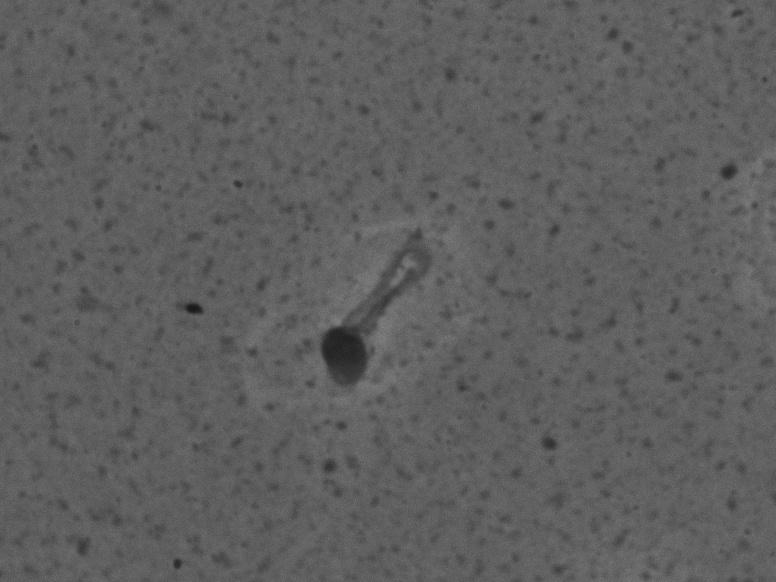Abnormal: (266, 201, 469, 450)
